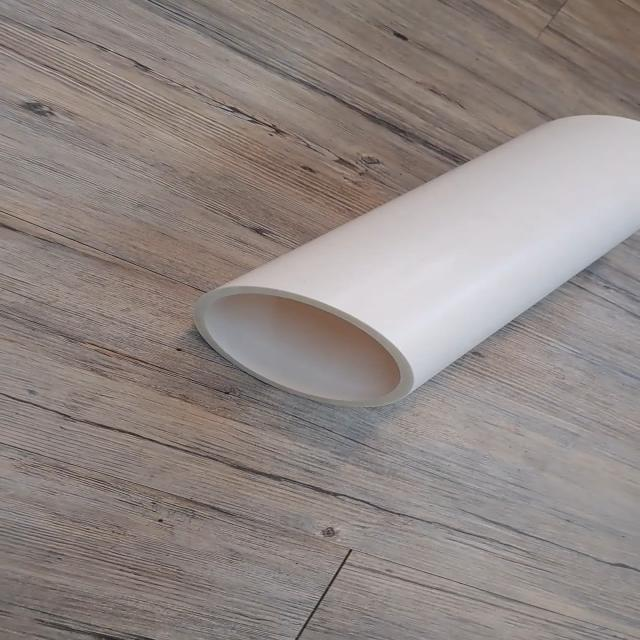CORAL: (130, 90, 640, 419)
